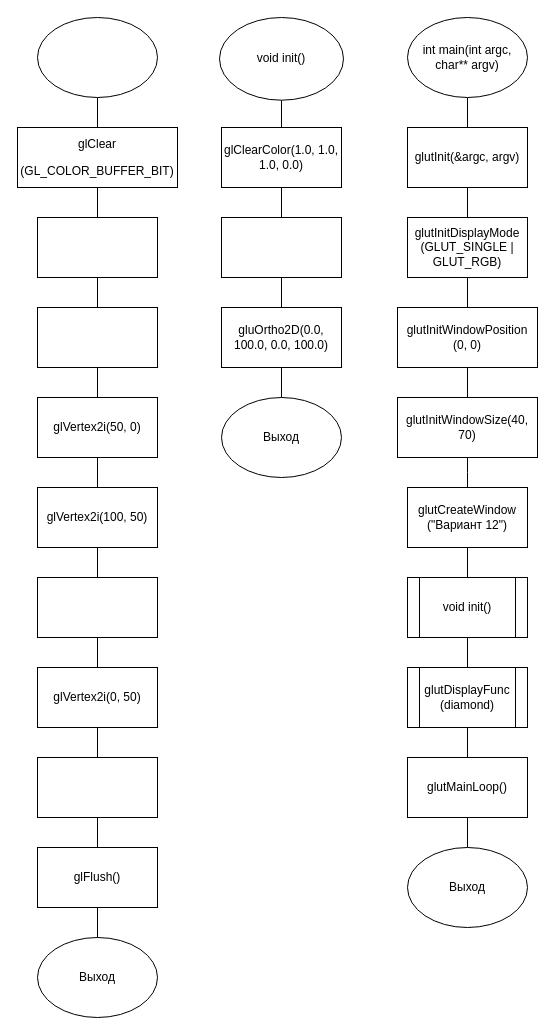
The diagram is 555 pixels wide and 1035 high, and some of its shapes have lost their labels. The shapes that lost their labels are listed below. From the top down, each one's centre as x and y in pixels, then its label:
the point at 97,57: void diamond()
the point at 97,247: glColor3f(0.0, 0.0, 0.0)
the point at 281,247: glMatrixMode (GL_PROJECTION)
the point at 97,337: glBegin(GL_QUADS)
the point at 97,607: glVertex2i(50, 100)
the point at 97,787: glEnd()
